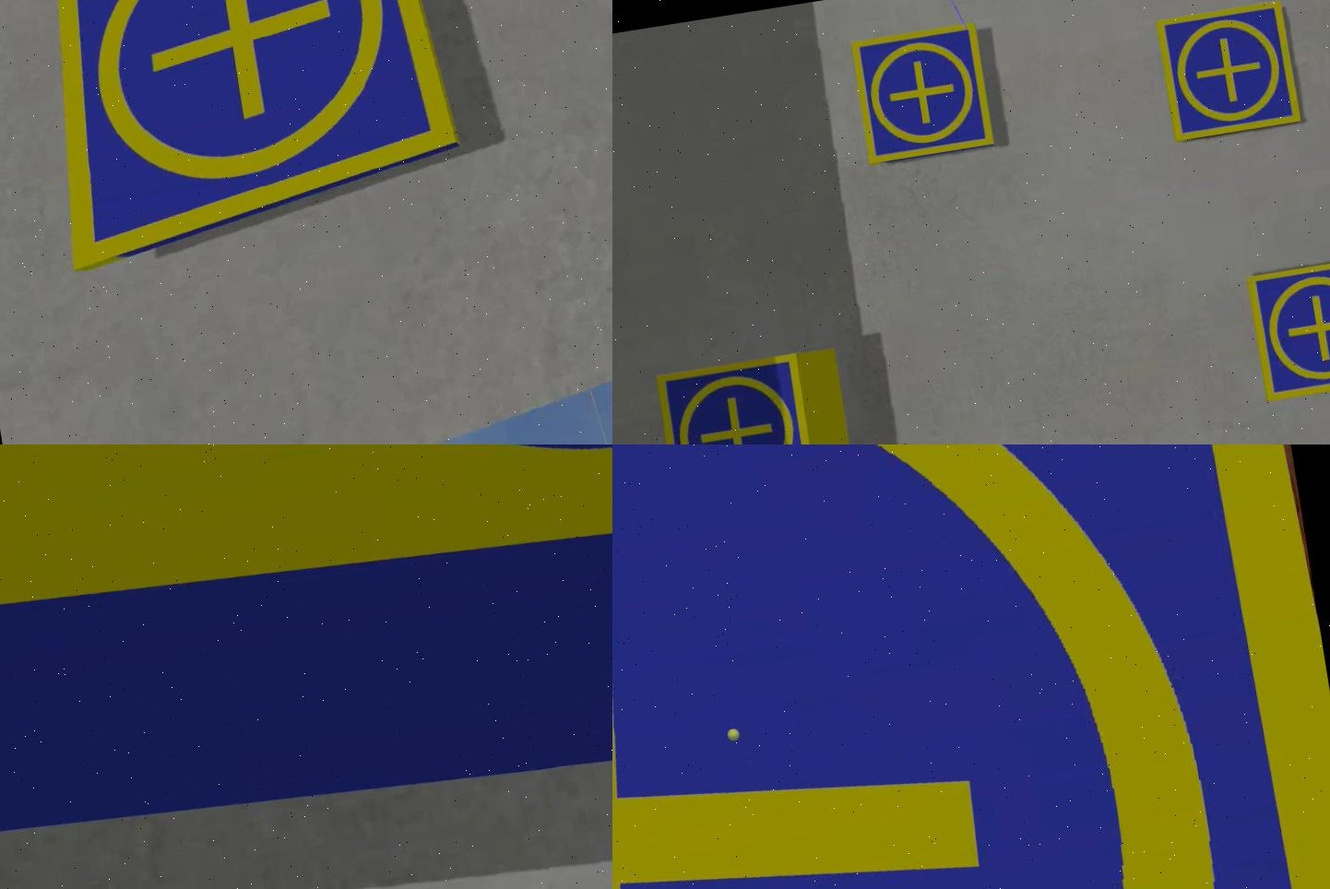large_base: (0, 445, 611, 889)
small_base: (611, 445, 1328, 889), (7, 1, 469, 277), (848, 21, 993, 167), (1155, 4, 1299, 146), (651, 350, 819, 445), (1241, 256, 1328, 402)
